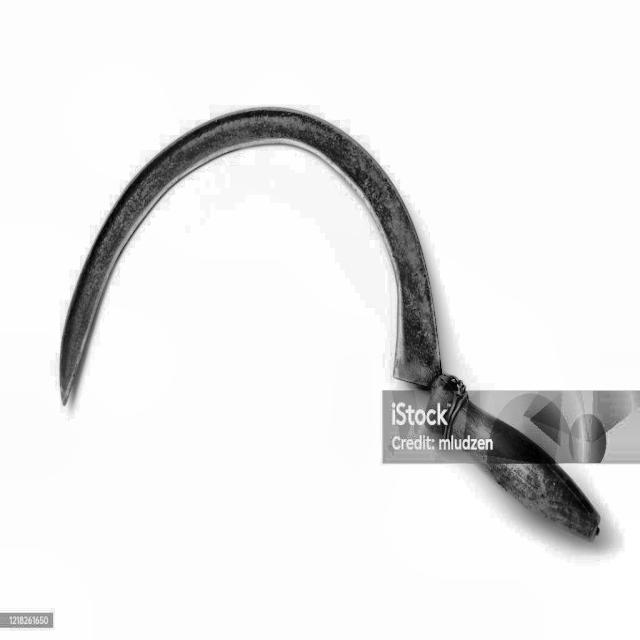celurit: (41, 93, 607, 557)
